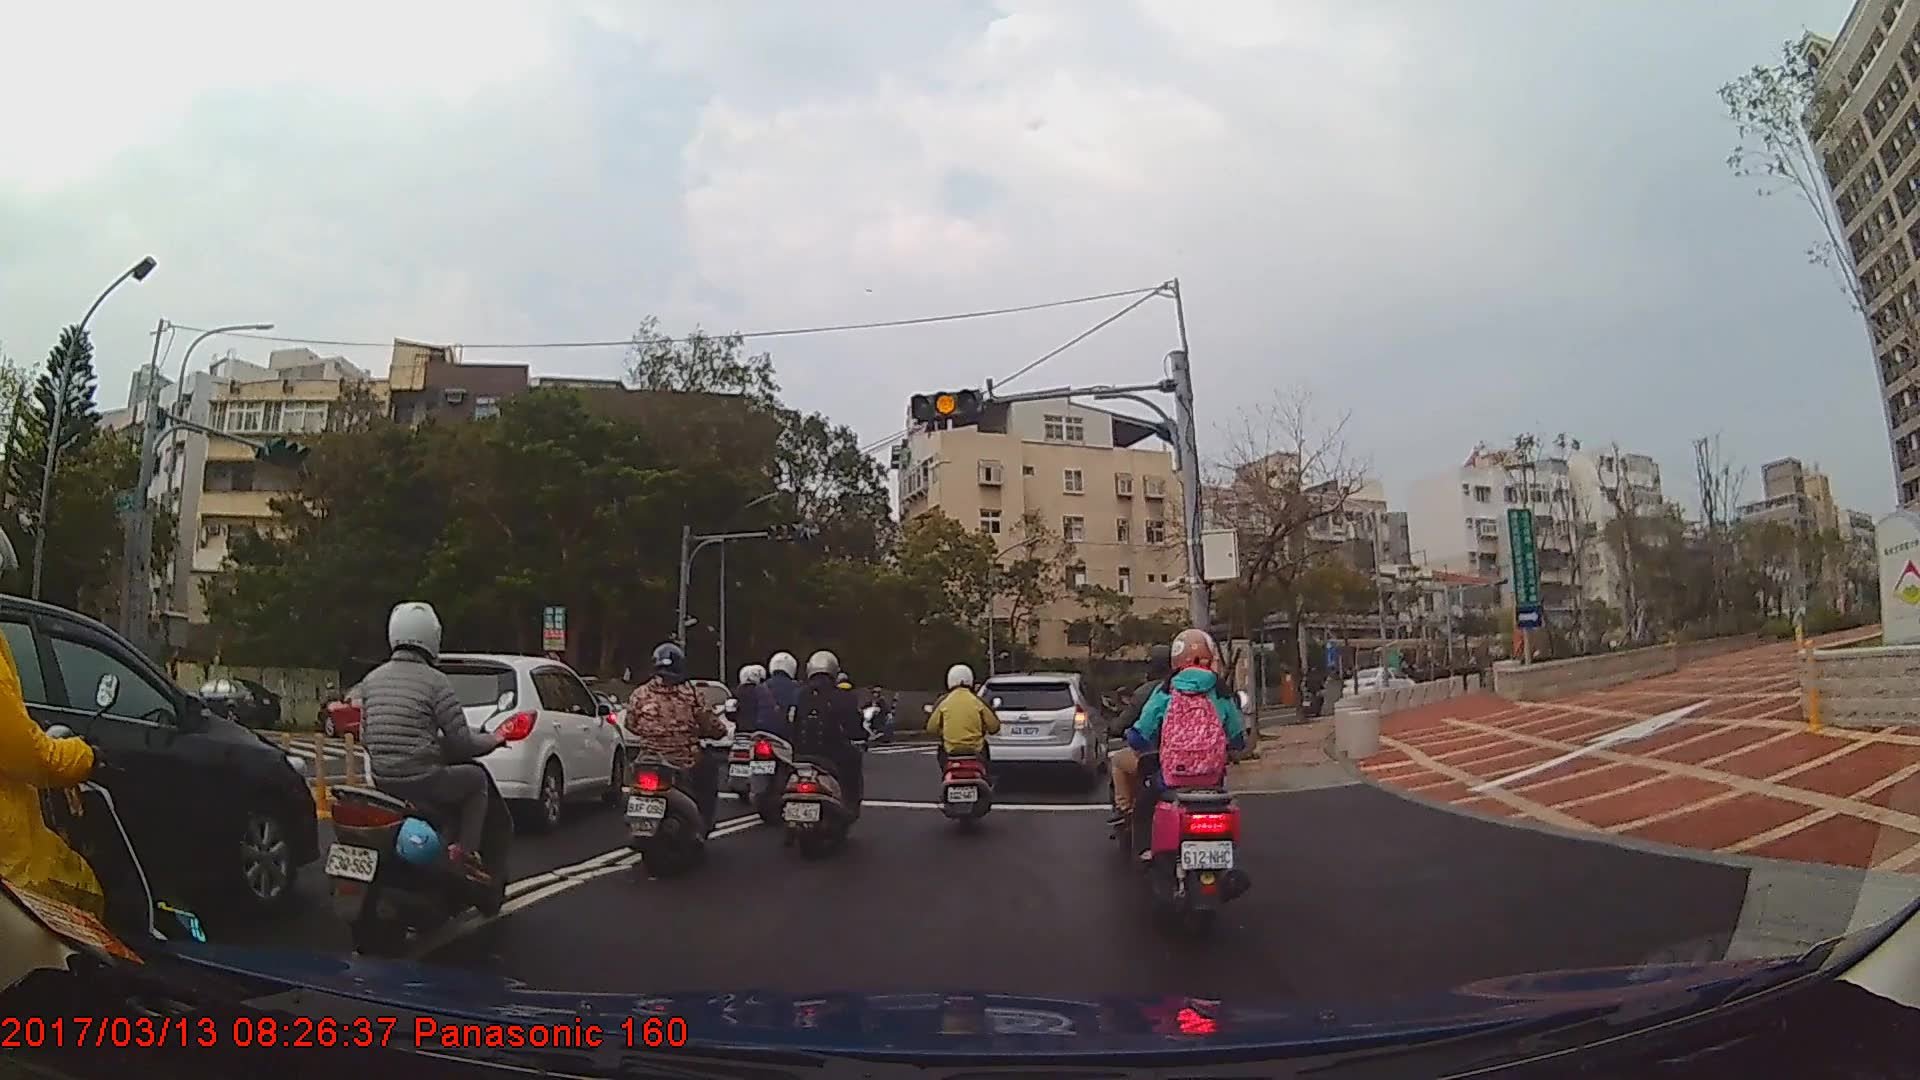rider: (1, 511, 175, 1033), (325, 597, 523, 956), (1128, 628, 1248, 928), (616, 640, 732, 882), (1107, 637, 1219, 858), (779, 645, 874, 861), (925, 663, 1009, 828), (744, 648, 819, 821), (723, 666, 784, 805), (864, 686, 898, 744)
vehicle: (0, 594, 317, 928), (363, 652, 626, 837), (970, 670, 1111, 788), (322, 677, 424, 738), (177, 674, 281, 730), (1342, 666, 1415, 701)
